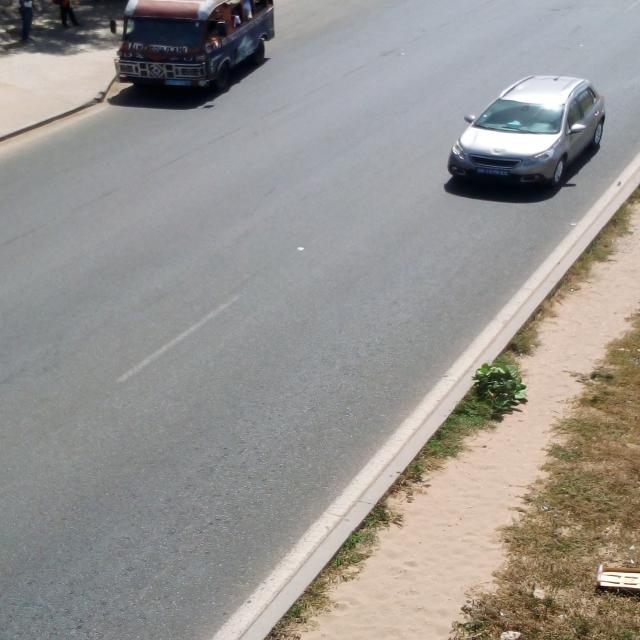car rapide: (116, 1, 276, 87)
particulier: (449, 76, 606, 186)
